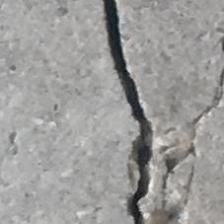Crack: (82, 0, 224, 224)
